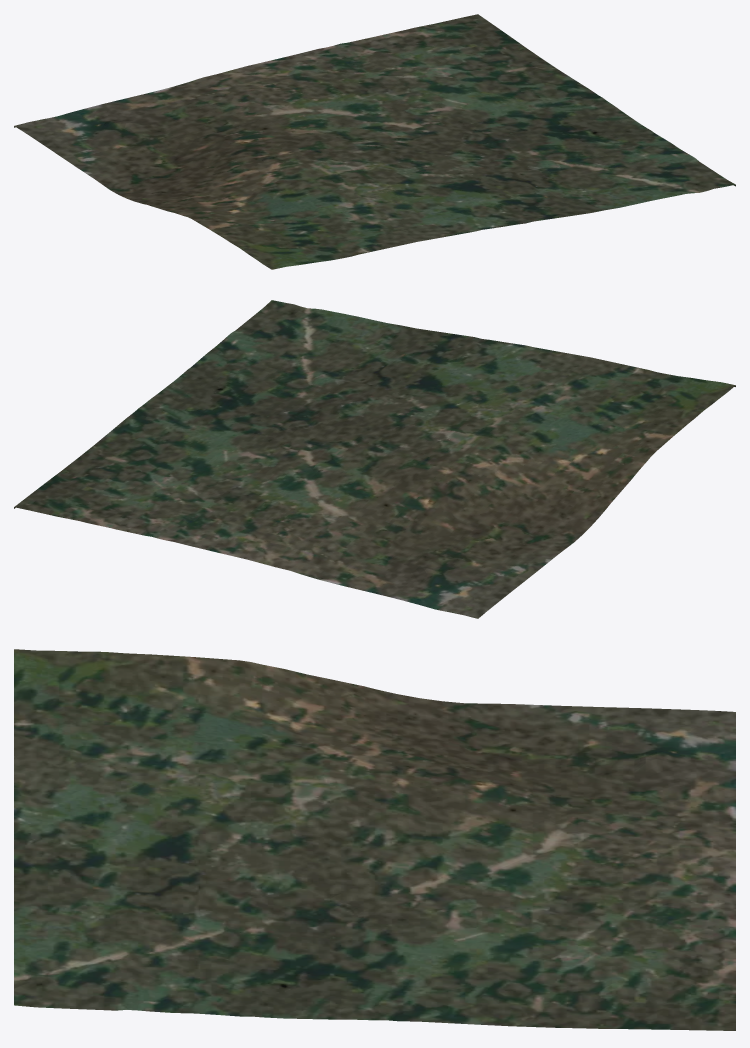
3 renders of one model, top to bottom at view 1: azimuth 30°, elevation 25°; view 2: azimuth 150°, elevation 25°; view 3: azimuth 270°, elevation 25°, orthographic. The views are drawn at different scales.
Bounding box in the file's own units: 250 × 24.86 × 241.
Materials: 1 (1 with a texture image).
